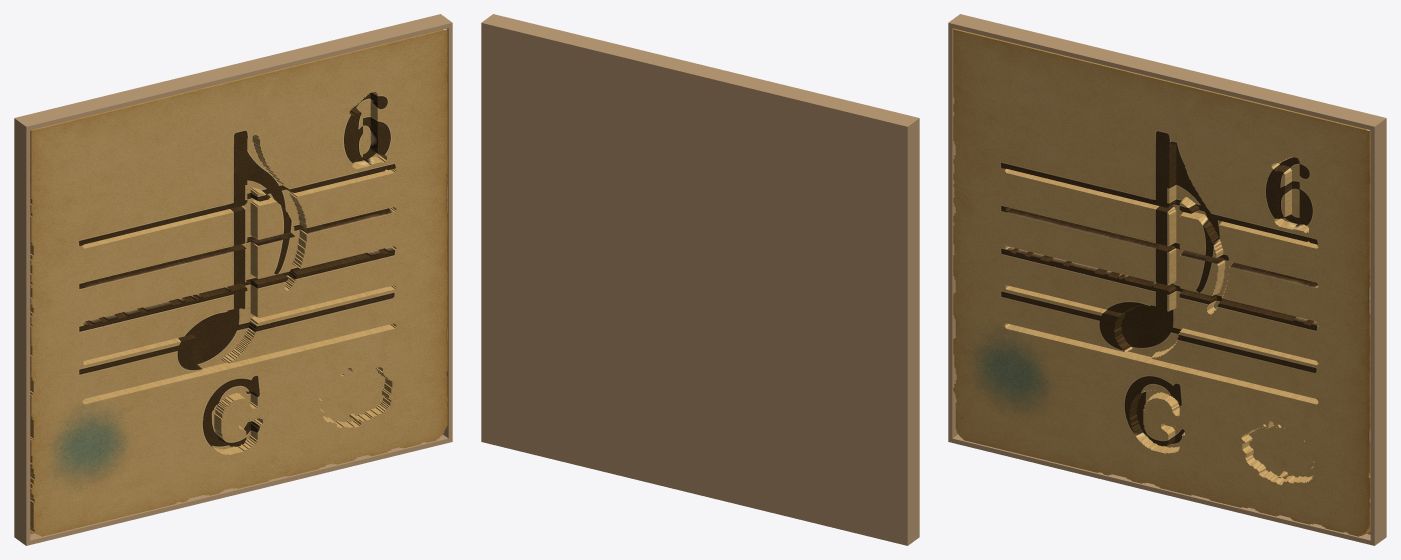
Rendered from note1g.fbx.
The picture shows the model from 3 angles, left to right: view 1: azimuth 30°, elevation 25°; view 2: azimuth 150°, elevation 25°; view 3: azimuth 330°, elevation 25°; orthographic projection.
Visible parts, largest first — view 1: meshes[0]; view 2: meshes[0]; view 3: meshes[0].
Boxes of the visible parts, left/top/right/bottom form: meshes[0]: left=14, top=14, right=452, bottom=545; meshes[0]: left=481, top=14, right=919, bottom=545; meshes[0]: left=948, top=14, right=1386, bottom=545.
Bounding box in the file's own units: 410 × 385 × 20.
